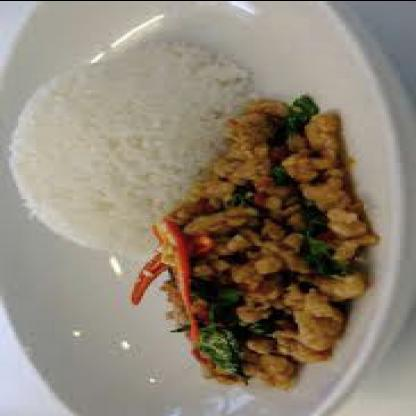Basil Rice: (20, 36, 404, 386)
